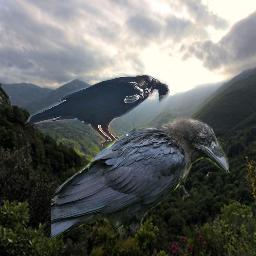Crow: (51, 116, 230, 240), (24, 73, 170, 149)
